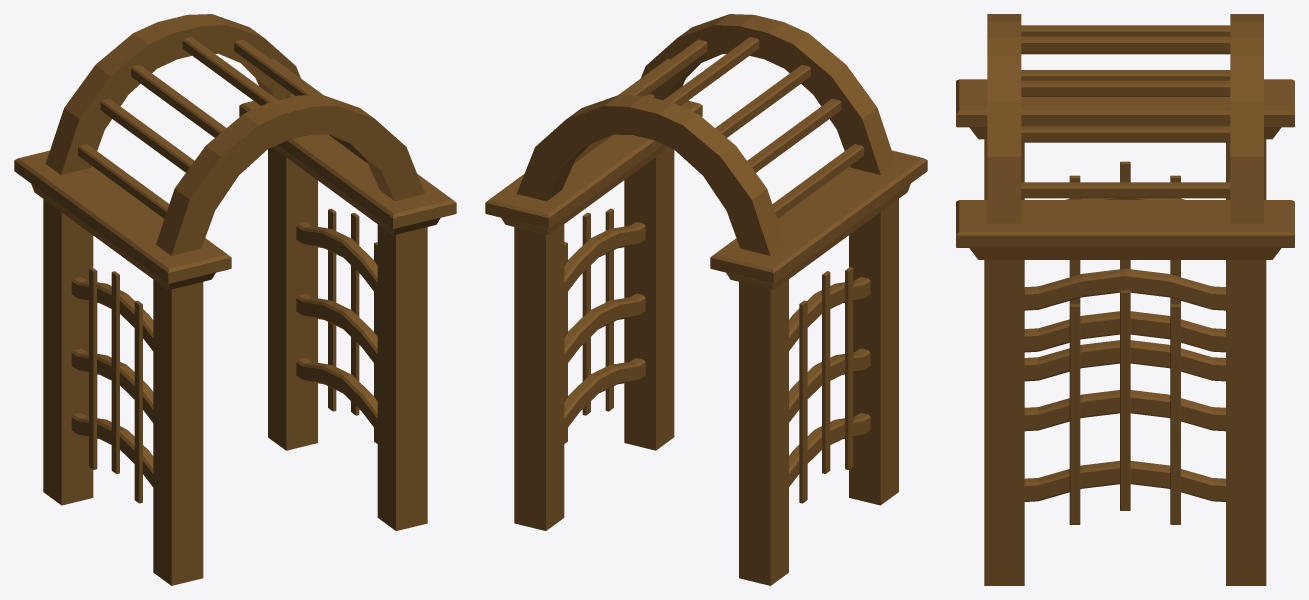
Rendered from GardenArc01.fbx.
3 views of the same model, side by side, from view 1: azimuth 30°, elevation 25°; view 2: azimuth 150°, elevation 25°; view 3: azimuth 270°, elevation 25° (orthographic). The views are drawn at different scales.
Visible parts, largest first — view 1: GardenArcDecor01; view 2: GardenArcDecor01; view 3: GardenArcDecor01.
Boxes of the visible parts, x1,y1,x2,y2 form: GardenArcDecor01: (14,14,456,585); GardenArcDecor01: (485,14,927,585); GardenArcDecor01: (956,14,1294,585).
Bounding box in the file's own units: 182 × 267 × 168.
